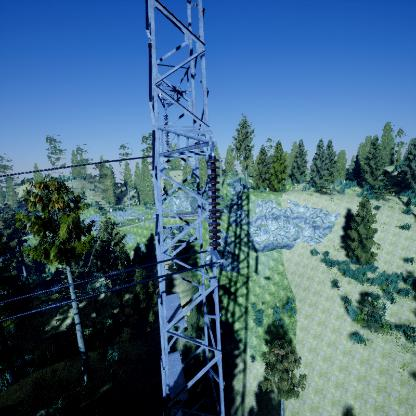insulator: (205, 155, 221, 249)
